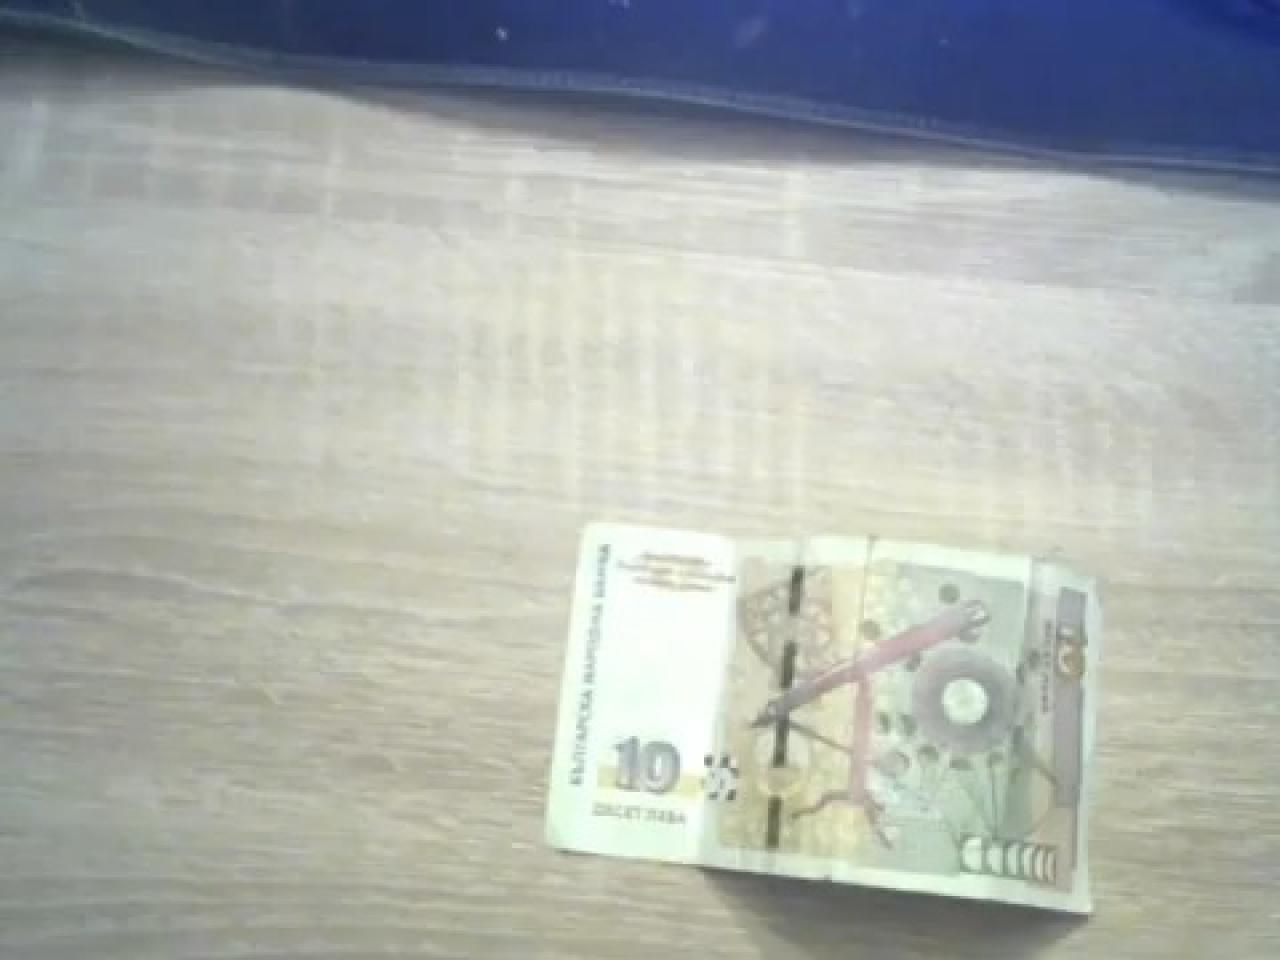10leva: (541, 522, 1104, 920)
